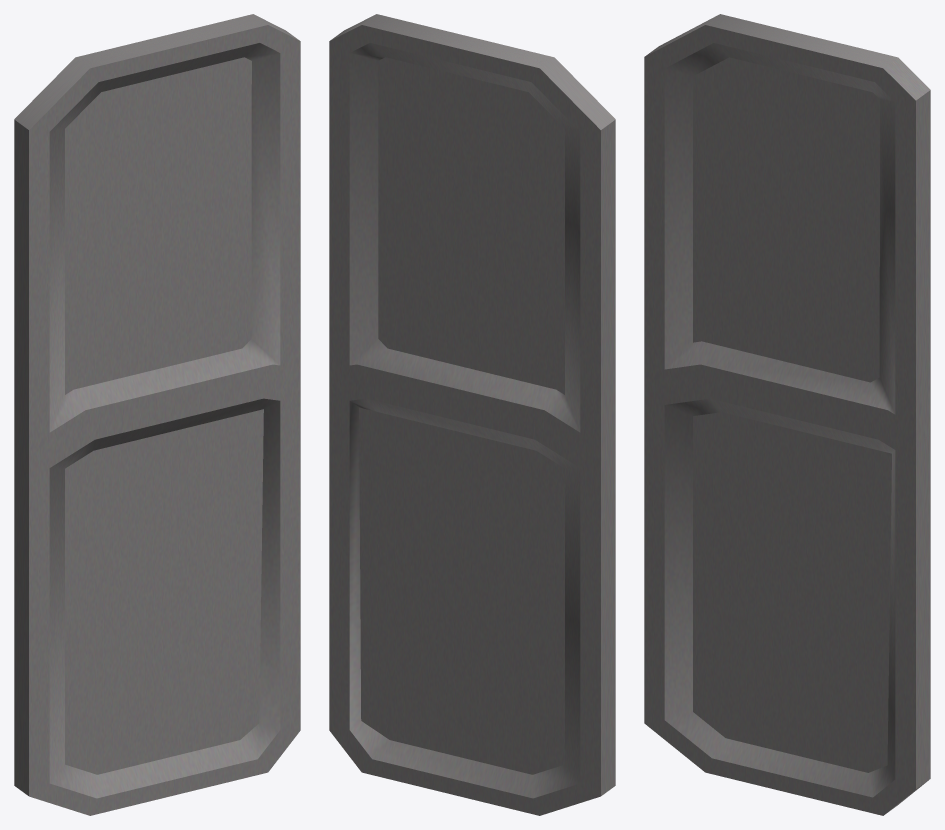
Rendered from DoorRight.FBX.
3 renders of one model, left to right at view 1: azimuth 30°, elevation 25°; view 2: azimuth 150°, elevation 25°; view 3: azimuth 330°, elevation 25°, orthographic.
Parts seen in each view (by area): view 1: DoorRight; view 2: DoorRight; view 3: DoorRight.
Part boxes in pixels (box(x1,y1,x2,y2)): DoorRight: box(14, 14, 300, 815); DoorRight: box(329, 14, 615, 815); DoorRight: box(644, 14, 930, 815).
Size of the model in its own units: 3.57 by 9.4 by 0.3394.
